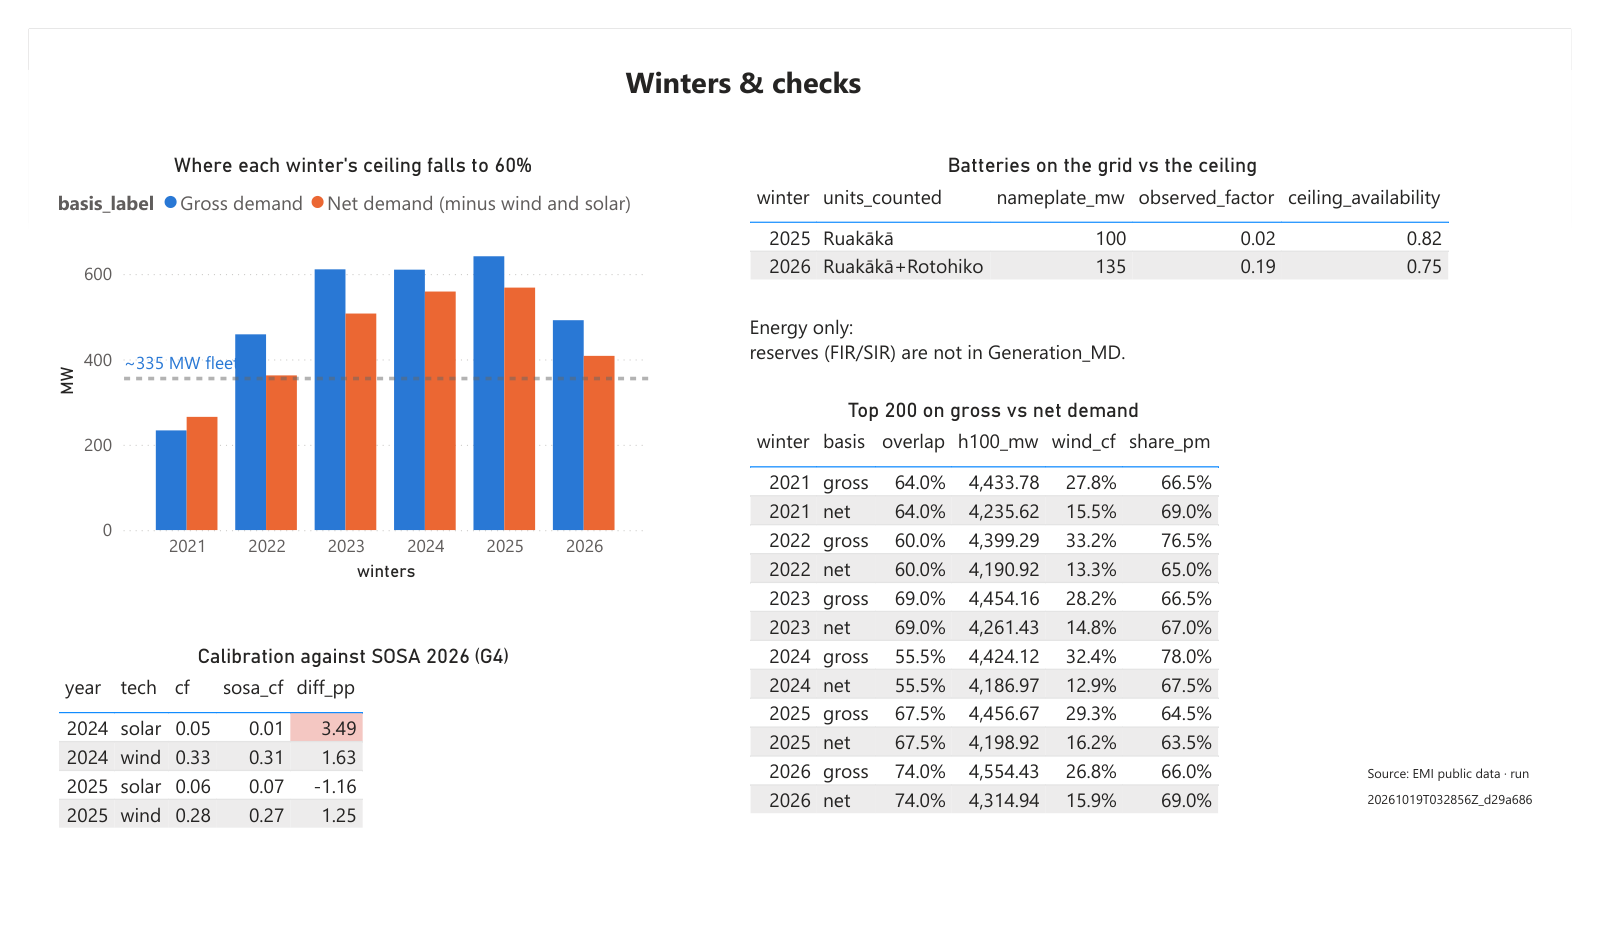

This screenshot's page, from the dashboard's own definition file:
{"tool":"powerbi","page":{"name":"Winters & checks","canvas":[1280,720],"ordinal":2},"visuals":[{"type":"clusteredColumnChart","title":"Where each winter''s ceiling falls to 60%","fields":{"Category":["crossings.winters"],"Y":["Max(crossings.p_star_mw)"],"Series":["Dim_Basis.basis_label"]},"box":[19.5,103.1,499.9,359.9],"z":0},{"type":"tableEx","title":"Top 200 on gross vs net demand","fields":{"Values":["top200_summary.winter","top200_summary.basis","top200_summary.overlap","top200_summary.h100_mw","top200_summary.wind_cf","top200_summary.share_pm"]},"box":[593.3,306.4,414.3,360.9],"z":1000},{"type":"tableEx","title":"Calibration against SOSA 2026 (G4)","fields":{"Values":["calibration.year","calibration.tech","calibration.cf","calibration.sosa_cf","calibration.diff_pp"]},"box":[19.5,509.7,499.9,189.7],"z":2000},{"type":"tableEx","title":"Batteries on the grid vs the ceiling","fields":{"Values":["observed_vs_ceiling.winter","observed_vs_ceiling.units_counted","observed_vs_ceiling.nameplate_mw","observed_vs_ceiling.observed_factor","observed_vs_ceiling.ceiling_availability"]},"box":[593.3,103.1,595.3,119.6],"z":3000},{"type":"textbox","box":[593.3,231.5,499.9,51.6],"z":4000},{"type":"textbox","box":[1106.3,599.7,151,99.3],"z":5000},{"type":"textbox","box":[467.8,22.4,250,44.7],"z":5001}]}

Visuals, with their boxes in screenshot pixels (x1, y1, x2, y2), scaled from the page's 1280x720 canvas onto the 1600x926 screenshot:
"Where each winter''s ceiling falls to 60%" clusteredColumnChart: bbox=(24, 133, 649, 595)
"Top 200 on gross vs net demand" tableEx: bbox=(742, 394, 1260, 858)
"Calibration against SOSA 2026 (G4)" tableEx: bbox=(24, 656, 649, 900)
"Batteries on the grid vs the ceiling" tableEx: bbox=(742, 133, 1486, 286)
textbox: bbox=(742, 298, 1366, 364)
textbox: bbox=(1383, 771, 1572, 899)
textbox: bbox=(585, 29, 897, 86)
